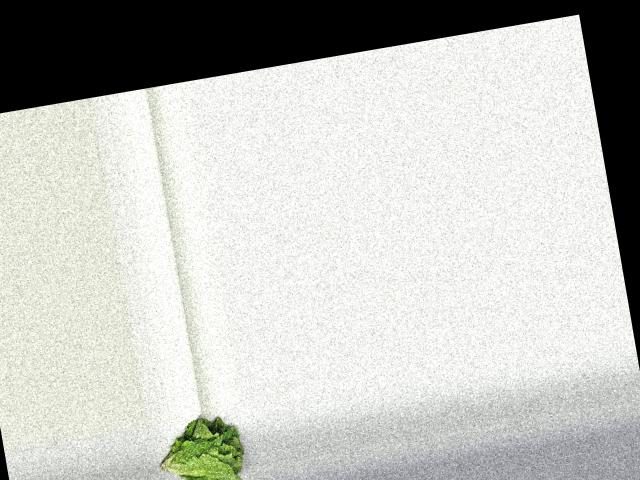lettuce: (149, 411, 253, 480)
